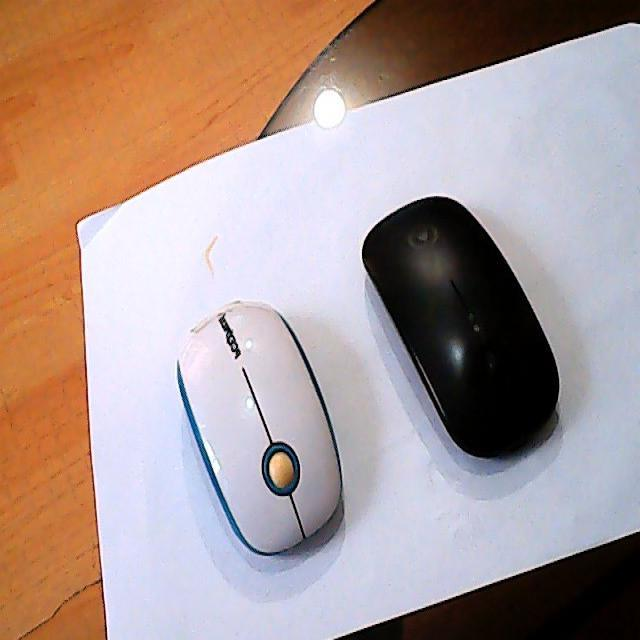mouse: (157, 290, 329, 586), (384, 183, 549, 475)
